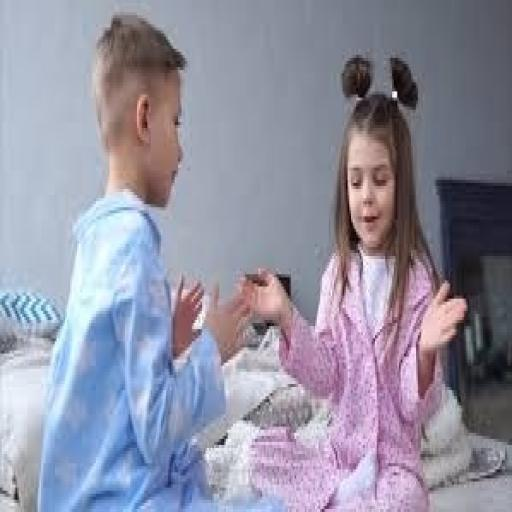clapping: (36, 9, 262, 509), (240, 49, 469, 509)
